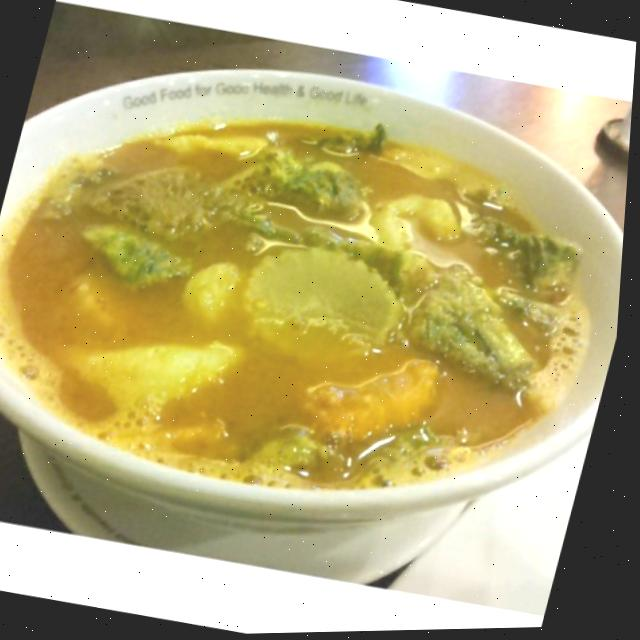汤锅炖物: (0, 11, 639, 603)
